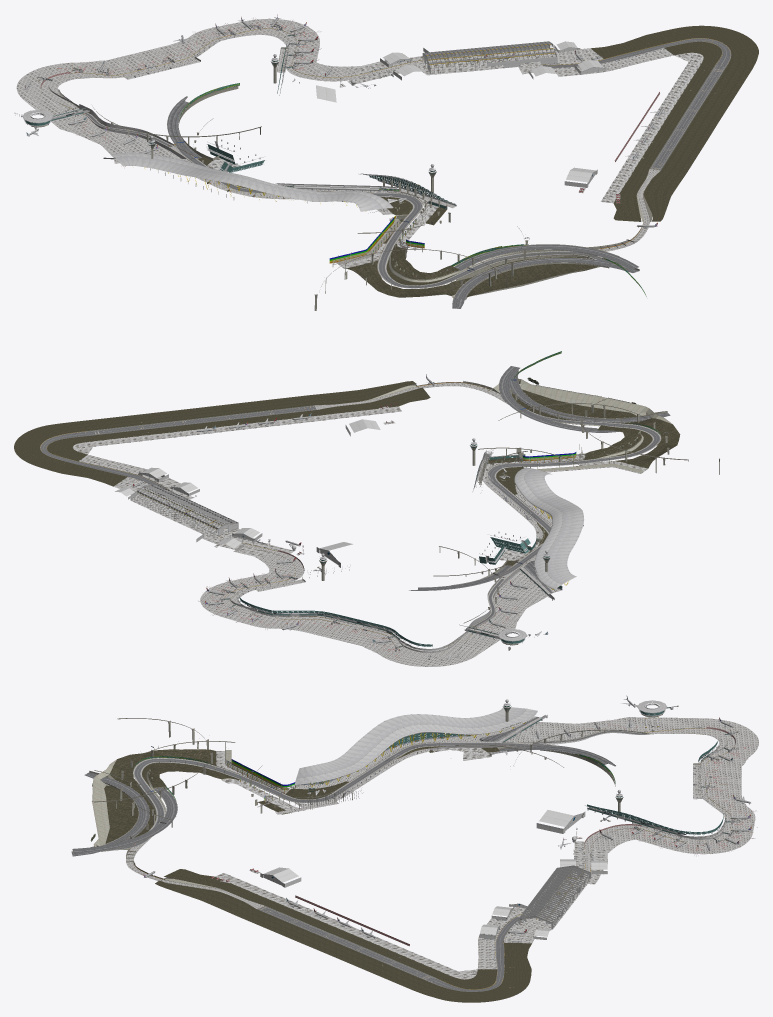
File: region11_airport.glb
3 views of the same model, one above another, from view 1: azimuth 30°, elevation 25°; view 2: azimuth 150°, elevation 25°; view 3: azimuth 270°, elevation 25° (orthographic). The views are drawn at different scales.
Visible parts, largest first — view 1: static_mesh/region11_env/environment_background_downres/Merg (×29), static_mesh/region11_env/environment_background/MergeGroup-a (×2); view 2: static_mesh/region11_env/environment_background_downres/Merg (×22), static_mesh/region11_env/environment_background/MergeGroup-a (×2); view 3: static_mesh/region11_env/environment_background_downres/Merg (×27), static_mesh/region11_env/environment_background/MergeGroup-a (×3).
Boxes of the visible parts, box(x1,y1,x2,y2) form: static_mesh/region11_env/environment_background_downres/Merg (×29): box(28, 25, 758, 296); static_mesh/region11_env/environment_background/MergeGroup-a (×2): box(447, 41, 559, 70); static_mesh/region11_env/environment_background_downres/Merg (×22): box(14, 366, 672, 652); static_mesh/region11_env/environment_background/MergeGroup-a (×2): box(131, 485, 238, 538); static_mesh/region11_env/environment_background_downres/Merg (×27): box(104, 706, 742, 1002); static_mesh/region11_env/environment_background/MergeGroup-a (×3): box(509, 865, 590, 928).
Size of the model in its own units: 2372 by 164 by 2464.
21 materials, 21 textured.
